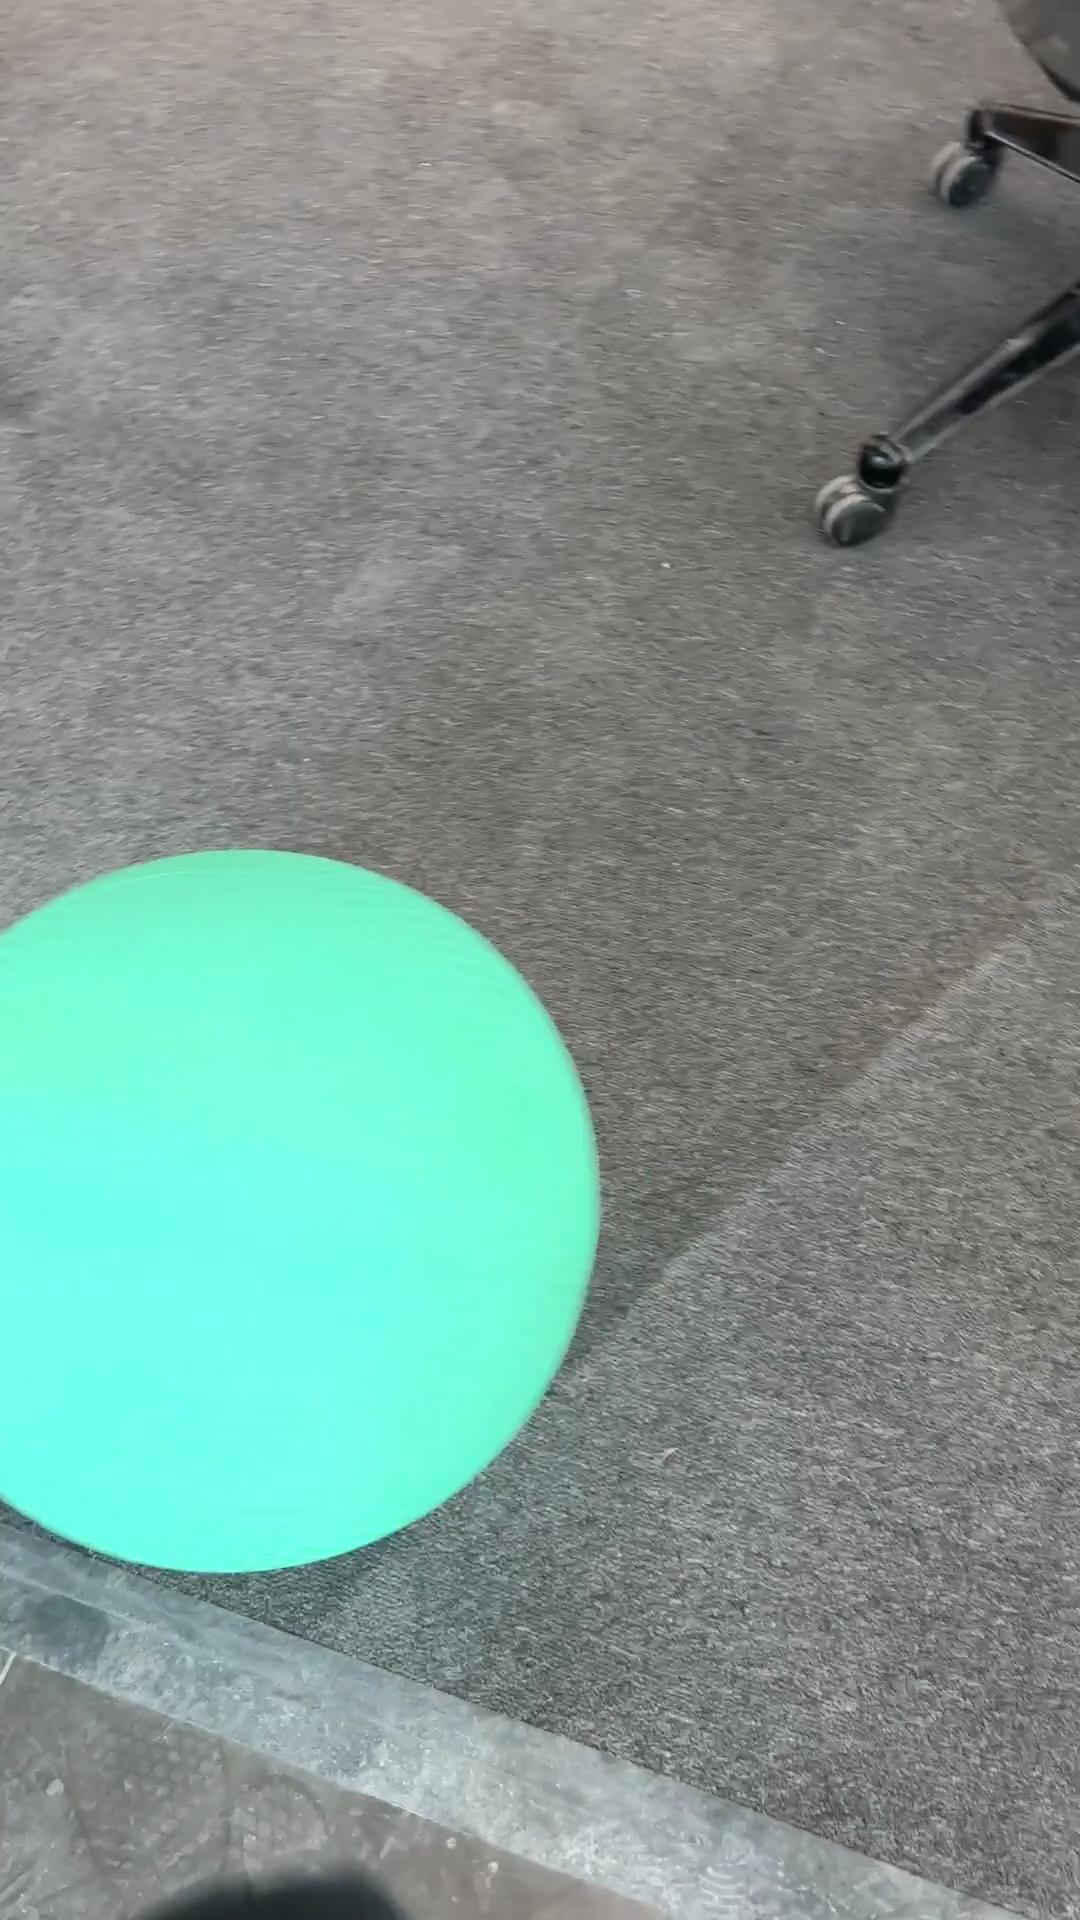ALGAE: (1, 845, 603, 1576)
